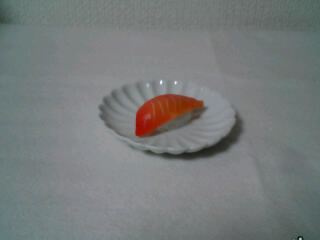002_classes: (137, 89, 206, 138)
